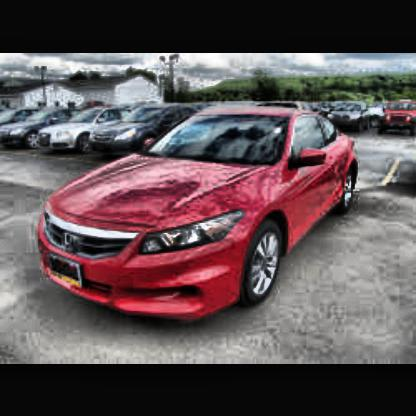Honda Accord Coupe 2012: (39, 106, 363, 317)
